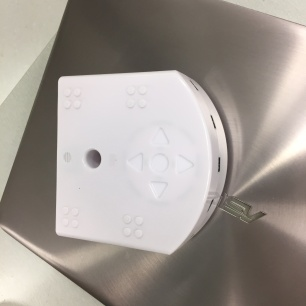thymio: (53, 64, 231, 259)
